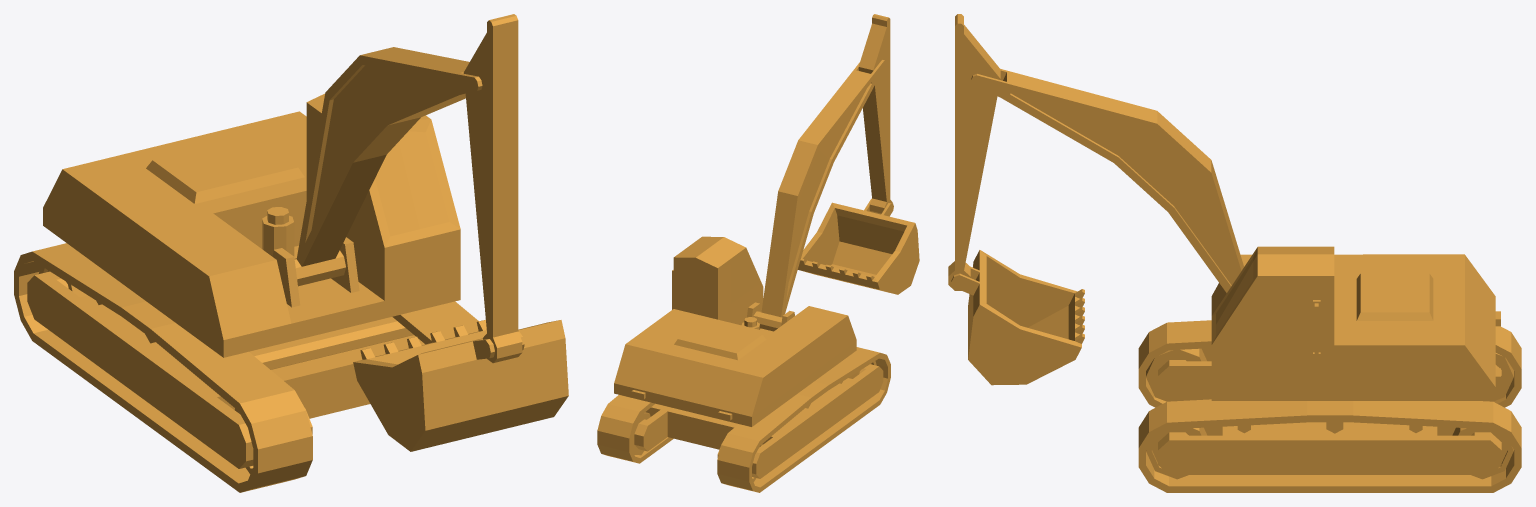
The model's file is excavator.glb.
3 renders of one model, left to right at view 1: azimuth 30°, elevation 25°; view 2: azimuth 150°, elevation 25°; view 3: azimuth 270°, elevation 25°, orthographic. The views are drawn at different scales.
Visible parts, largest first — view 1: excavator-base, excavator-belt, excavator-bucket, excavator-chassis, excavator-arm-base, excavator-arm-top, excavator-wheel_TF; view 2: excavator-base, excavator-arm-base, excavator-belt, excavator-bucket, excavator-chassis, excavator-arm-top; view 3: excavator-base, excavator-belt, excavator-chassis, excavator-arm-base, excavator-bucket, excavator-arm-top, excavator-wheel_F, excavator-wheel_B.
Part boxes in pixels (x1,y1,x2,y2): excavator-base: (43,93,460,357); excavator-belt: (14,243,478,492); excavator-bucket: (353,319,568,451); excavator-chassis: (27,271,424,468); excavator-arm-base: (294,47,482,286); excavator-arm-top: (463,14,522,363); excavator-wheel_TF: (254,321,413,369); excavator-base: (614,236,856,426); excavator-arm-base: (753,59,886,331); excavator-belt: (597,347,890,492); excavator-bucket: (797,198,919,294); excavator-chassis: (634,364,883,478); excavator-arm-top: (858,14,892,214); excavator-base: (1211,246,1500,400); excavator-belt: (1138,320,1521,492); excavator-chassis: (1158,348,1501,474); excavator-arm-base: (971,69,1243,292); excavator-bucket: (951,250,1084,385); excavator-arm-top: (948,14,1000,290); excavator-wheel_F: (1146,348,1207,479); excavator-wheel_B: (1452,353,1513,479).
Size of the model in its own units: 3.1 by 6.1 by 7.48.
